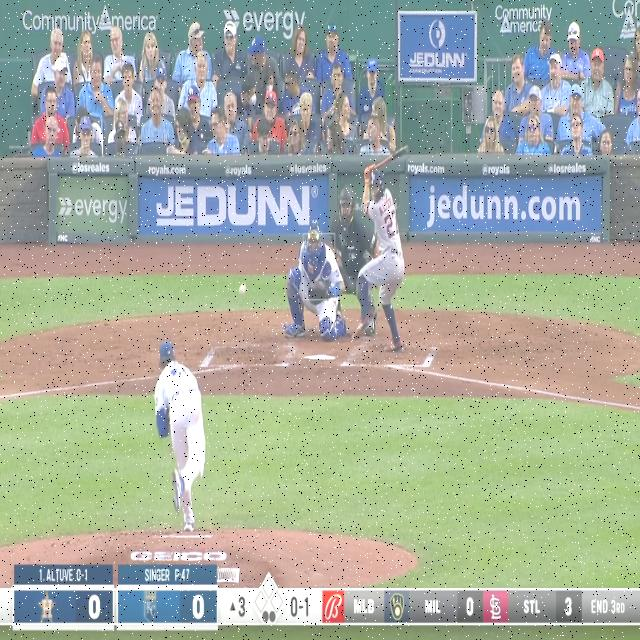baseball: (238, 282, 246, 296)
